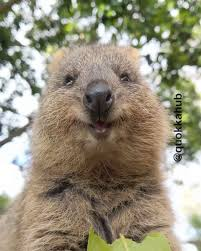quokka: (22, 31, 176, 251)
